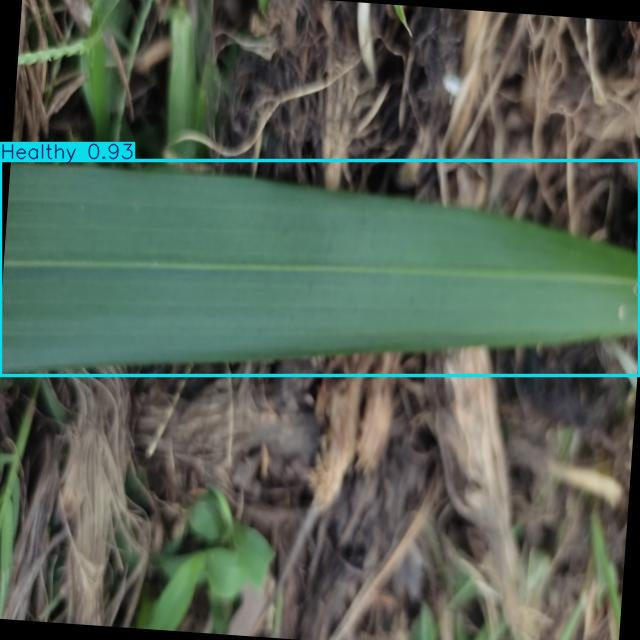Healthy: (0, 160, 639, 376)
